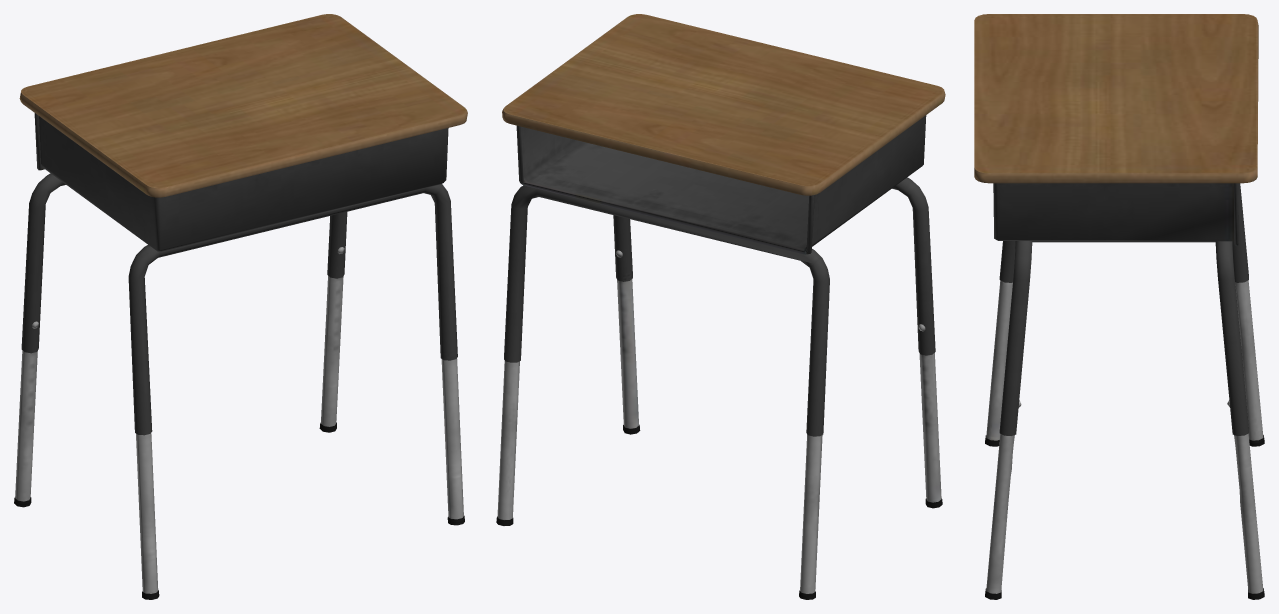
The model's file is schooldesk_01.glb.
The picture shows the model from 3 angles, left to right: view 1: azimuth 30°, elevation 25°; view 2: azimuth 150°, elevation 25°; view 3: azimuth 270°, elevation 25°; orthographic projection. The views are drawn at different scales.
Parts seen in each view (by area): view 1: SchoolDesk_01; view 2: SchoolDesk_01; view 3: SchoolDesk_01.
Boxes of the visible parts, x1,y1,x2,y2 form: SchoolDesk_01: (14,14,467,599); SchoolDesk_01: (496,14,945,599); SchoolDesk_01: (974,14,1264,599).
Size of the model in its own units: 0.7118 by 0.8826 by 0.5438.
Materials: 1 (1 with a texture image).
